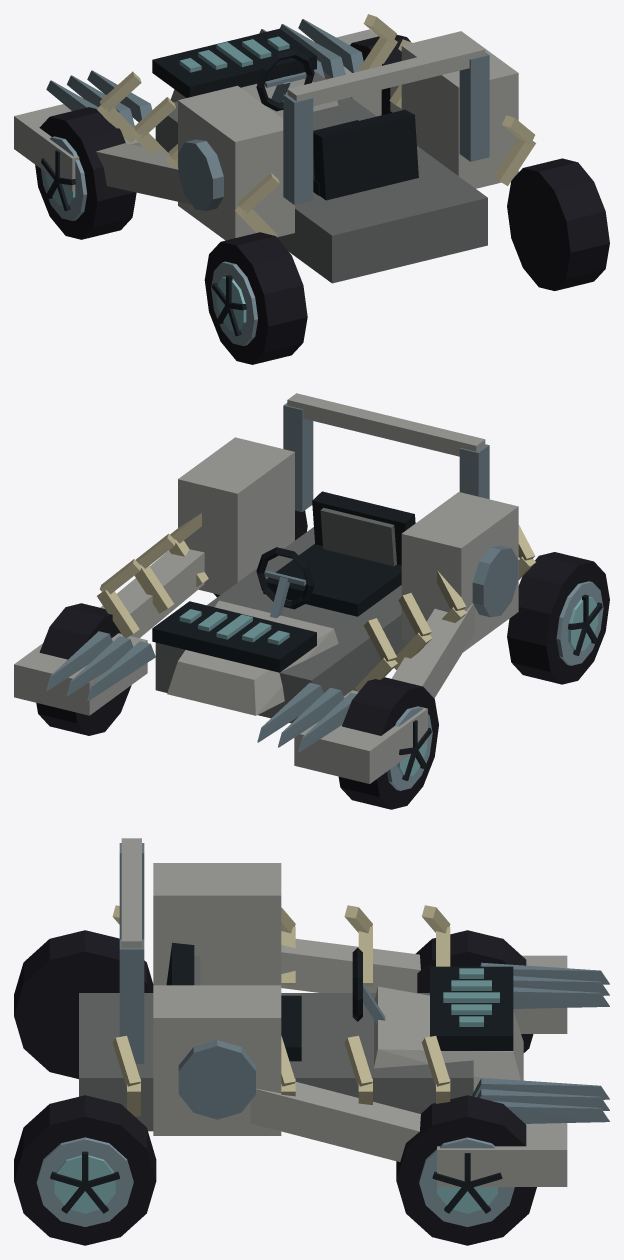
The model's file is kart.glb.
3 views of the same model, one above another, from view 1: azimuth 30°, elevation 25°; view 2: azimuth 150°, elevation 25°; view 3: azimuth 270°, elevation 25° (orthographic). The views are drawn at different scales.
Visible parts, largest first — view 1: identity-mech-mech-articulated-limbs-and-open-harness, wheel-rear-left, wheel-rear-right, identity-mech-driver-cockpit, wheel-front-left, identity-mech-motif-ribs, identity-mech-motif-equalizer, identity-mech-motif-claws, wheel-front-right; view 2: identity-mech-mech-articulated-limbs-and-open-harness, identity-mech-driver-cockpit, wheel-rear-left, identity-mech-motif-ribs, identity-mech-motif-claws, wheel-front-left, identity-mech-motif-equalizer, wheel-front-right; view 3: identity-mech-mech-articulated-limbs-and-open-harness, wheel-rear-right, wheel-front-right, wheel-rear-left, identity-mech-motif-claws, identity-mech-motif-equalizer, identity-mech-motif-ribs, identity-mech-driver-cockpit, wheel-front-left.
Part boxes in pixels (x1,y1,x2,y2): identity-mech-mech-articulated-limbs-and-open-harness: [14, 29, 518, 283]; wheel-rear-left: [204, 232, 307, 364]; wheel-rear-right: [507, 158, 609, 290]; identity-mech-driver-cockpit: [256, 49, 418, 200]; wheel-front-left: [35, 107, 136, 239]; identity-mech-motif-ribs: [97, 14, 535, 236]; identity-mech-motif-equalizer: [152, 28, 316, 97]; identity-mech-motif-claws: [46, 19, 363, 127]; wheel-front-right: [350, 35, 410, 115]; identity-mech-mech-articulated-limbs-and-open-harness: [14, 393, 518, 783]; identity-mech-driver-cockpit: [256, 491, 415, 618]; wheel-rear-left: [507, 552, 609, 684]; identity-mech-motif-ribs: [97, 513, 535, 691]; identity-mech-motif-claws: [46, 631, 356, 752]; wheel-front-left: [338, 677, 438, 809]; identity-mech-motif-equalizer: [152, 601, 316, 672]; wheel-front-right: [36, 603, 131, 735]; identity-mech-mech-articulated-limbs-and-open-harness: [79, 838, 567, 1186]; wheel-rear-right: [14, 1095, 156, 1245]; wheel-front-right: [396, 1095, 536, 1245]; wheel-rear-left: [14, 930, 153, 1078]; identity-mech-motif-claws: [472, 962, 609, 1123]; identity-mech-motif-equalizer: [430, 966, 513, 1050]; identity-mech-motif-ribs: [112, 905, 450, 1116]; identity-mech-driver-cockpit: [166, 942, 385, 1061]; wheel-front-left: [415, 930, 533, 1052].
Bounding box in the file's own units: 2.29 × 1.42 × 2.93.
